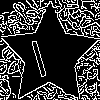I: (24, 30, 51, 79)
